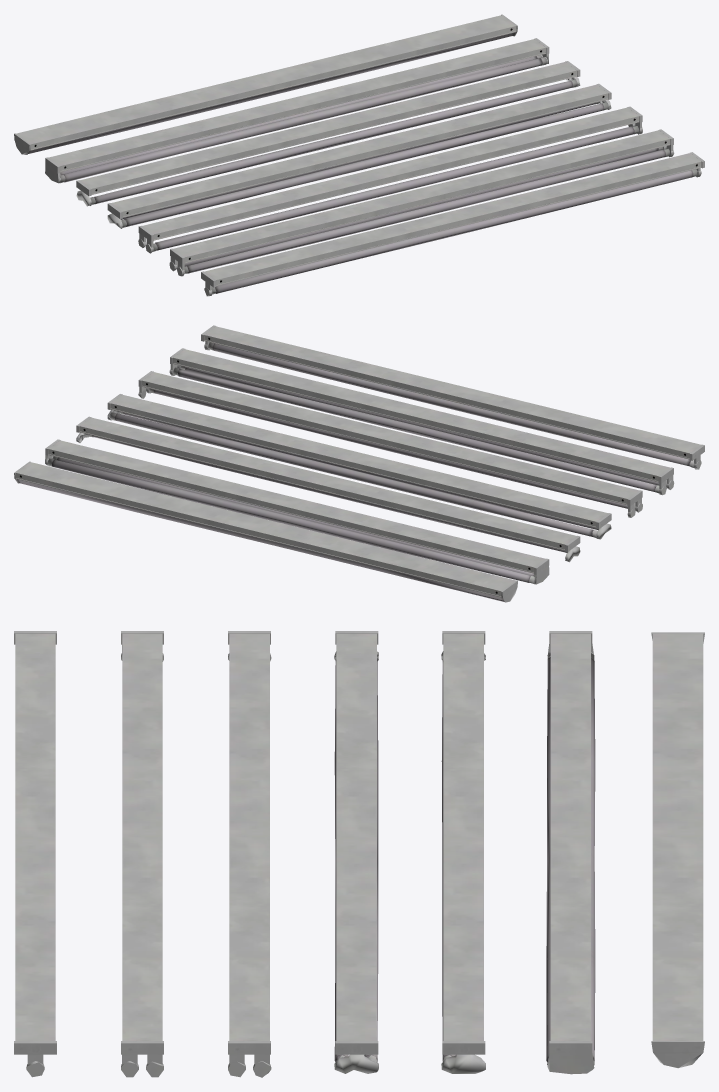
Rendered from mounted_fluorescent_lights.glb.
3 views of the same model, one above another, from view 1: azimuth 30°, elevation 25°; view 2: azimuth 150°, elevation 25°; view 3: azimuth 270°, elevation 25° (orthographic). The views are drawn at different scales.
Parts seen in each view (by area): view 1: mounted_fluorescent_lights_a; view 2: mounted_fluorescent_lights_a; view 3: mounted_fluorescent_lights_a.
Boxes of the visible parts, x1,y1,x2,y2 form: mounted_fluorescent_lights_a: [14, 14, 704, 296]; mounted_fluorescent_lights_a: [14, 325, 704, 602]; mounted_fluorescent_lights_a: [14, 631, 704, 1077].
Bounding box in the file's own units: 0.9122 × 0.0353 × 0.6453.
Materials: 2 (2 with a texture image).
